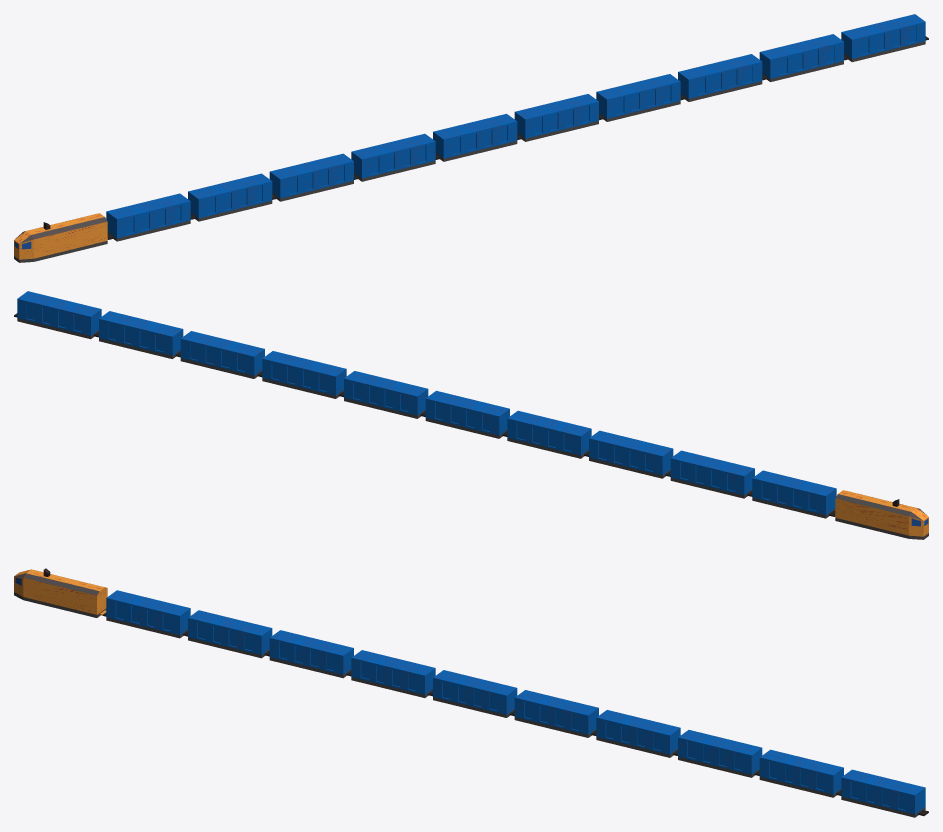
File: train.gltf
3 views of the same model, one above another, from view 1: azimuth 30°, elevation 25°; view 2: azimuth 150°, elevation 25°; view 3: azimuth 330°, elevation 25° (orthographic).
Visible parts, largest first — view 1: 立方体, 立方体.001; view 2: 立方体, 立方体.001; view 3: 立方体, 立方体.001.
Boxes of the visible parts, box(x1,y1,x2,y2) form: 立方体: box(106, 14, 928, 241); 立方体.001: box(14, 213, 107, 262); 立方体: box(14, 291, 836, 518); 立方体.001: box(835, 490, 928, 539); 立方体: box(103, 590, 928, 817); 立方体.001: box(14, 568, 107, 617).
Size of the model in its own units: 296 by 9.72 by 6.
Materials: 2 (2 with a texture image).
